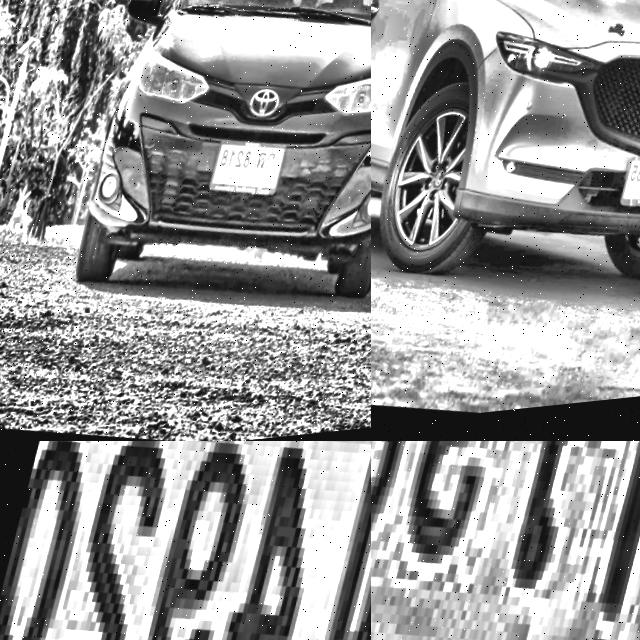license-plate: (0, 441, 371, 640), (371, 441, 640, 640), (209, 131, 297, 216), (620, 158, 640, 229)
